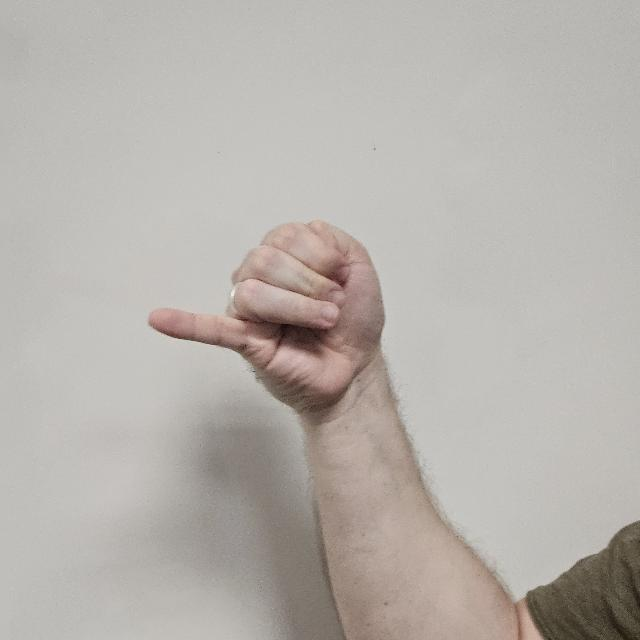Esquerda: (128, 167, 402, 436)
